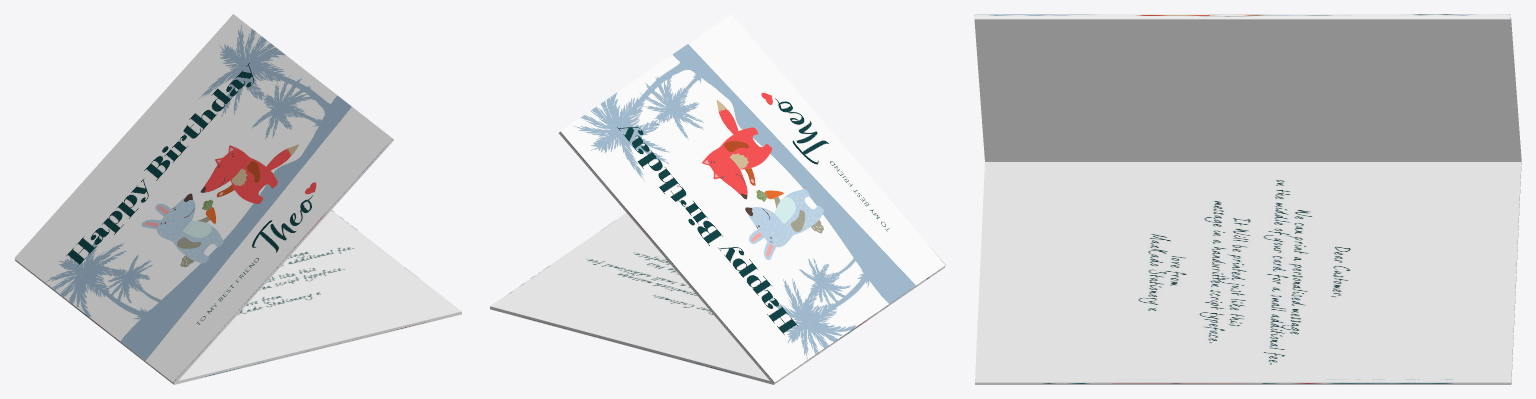
The model's file is BirthdayCard.fbx.
3 views of the same model, side by side, from view 1: azimuth 30°, elevation 25°; view 2: azimuth 150°, elevation 25°; view 3: azimuth 270°, elevation 25° (orthographic). The views are drawn at different scales.
Visible parts, largest first — view 1: mesh_node; view 2: mesh_node; view 3: mesh_node.
Boxes of the visible parts, x1,y1,x2,y2 form: mesh_node: [14, 14, 461, 384]; mesh_node: [490, 14, 945, 384]; mesh_node: [974, 14, 1521, 384].
Size of the model in its own units: 18.1 by 11.85 by 18.06.
